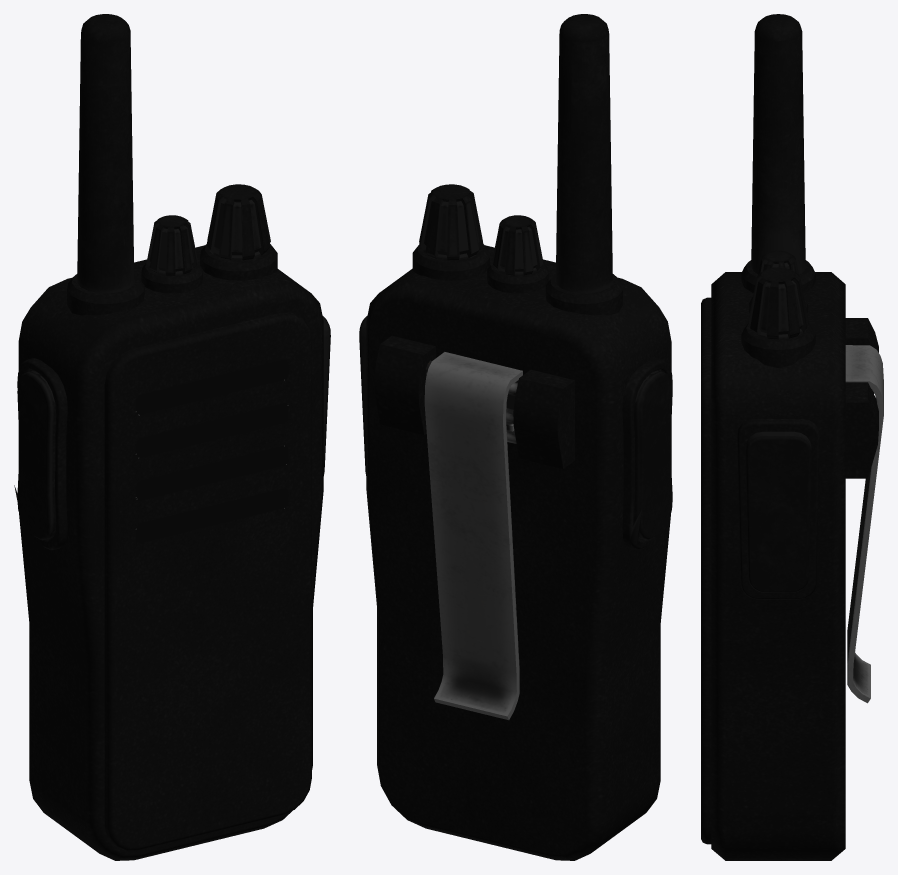
The model's file is radio.fbx.
3 renders of one model, left to right at view 1: azimuth 30°, elevation 25°; view 2: azimuth 150°, elevation 25°; view 3: azimuth 270°, elevation 25°, orthographic. The views are drawn at different scales.
Parts seen in each view (by area): view 1: Radio; view 2: Radio; view 3: Radio.
Part boxes in pixels (x1=…): Radio: x1=14, y1=14, x2=330, y2=860; Radio: x1=359, y1=14, x2=672, y2=860; Radio: x1=701, y1=14, x2=883, y2=860.
Size of the model in its own units: 6.84 by 18.83 by 4.02.
